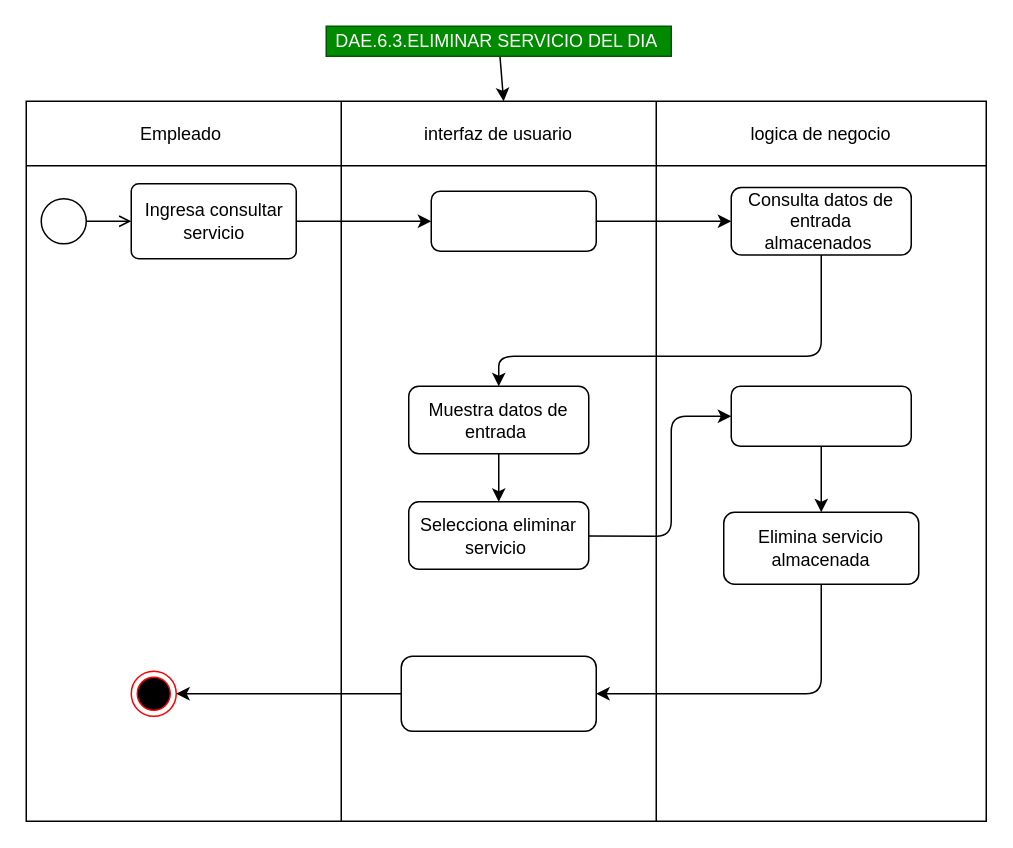
Image size: 1013x848. Some labels were removed from this diagram. The box of each missing label's shape, as (x1, y1, x2, y2) in pixels:
Autenticacion servicio: (430, 190, 596, 251)
Muestra servicio eliminada: (400, 655, 596, 731)
Valida llave primaria servicio: (730, 385, 911, 446)
